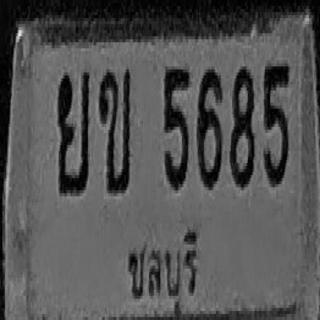A02: (99, 68, 131, 192)
A34: (57, 69, 89, 193)
N05: (263, 62, 289, 186), (164, 65, 189, 189)
N06: (197, 66, 222, 187)
N08: (230, 66, 254, 187)
P13: (125, 213, 199, 313)
